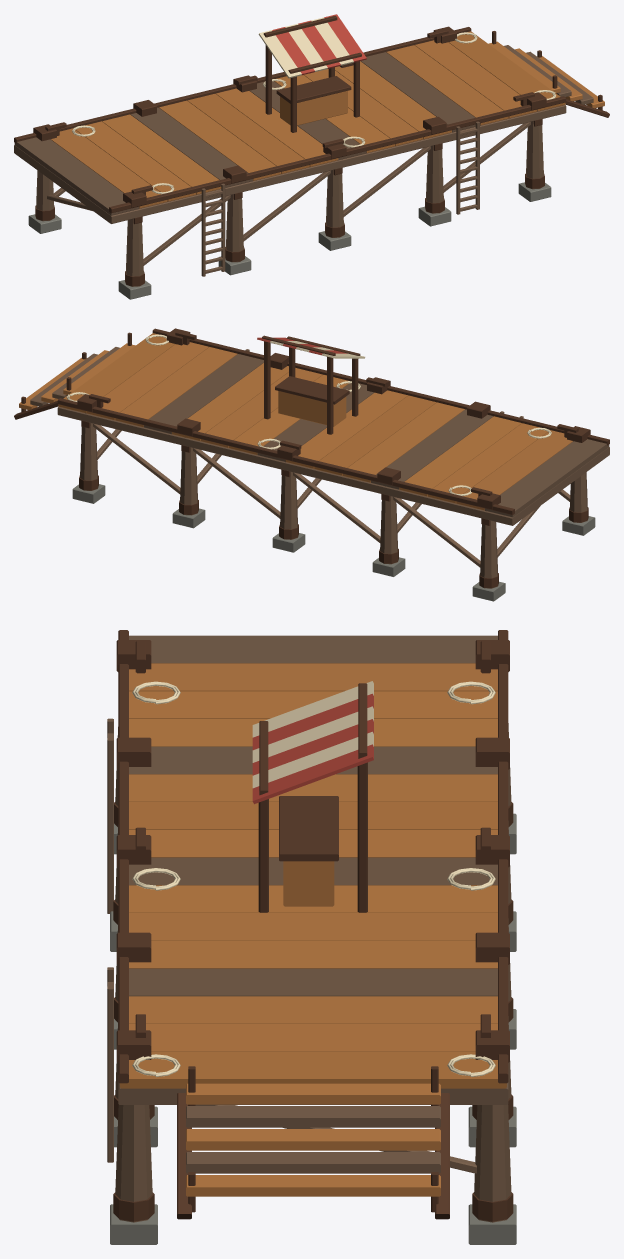
Rendered from dock_straight_a.glb.
The picture shows the model from 3 angles, top to bottom: view 1: azimuth 30°, elevation 25°; view 2: azimuth 150°, elevation 25°; view 3: azimuth 270°, elevation 25°; orthographic projection. The views are drawn at different scales.
Parts seen in each view (by area): view 1: dock_straight_a_timber; view 2: dock_straight_a_timber; view 3: dock_straight_a_timber.
Boxes of the visible parts, x1,y1,x2,y2 form: dock_straight_a_timber: (14, 14, 609, 299); dock_straight_a_timber: (14, 328, 609, 601); dock_straight_a_timber: (107, 630, 516, 1244).
Size of the model in its own units: 15.81 by 5.06 by 5.46.
